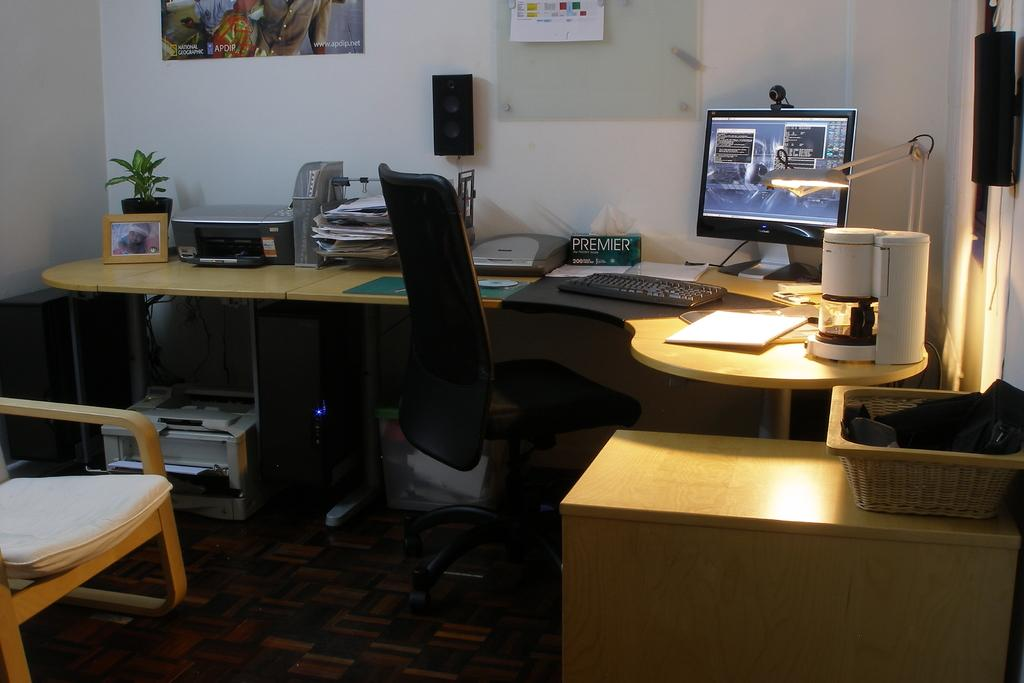Chair: (375, 161, 642, 611)
Computer-monitor: (692, 102, 859, 281)
Luggage-and-bags: (824, 374, 1021, 520)
